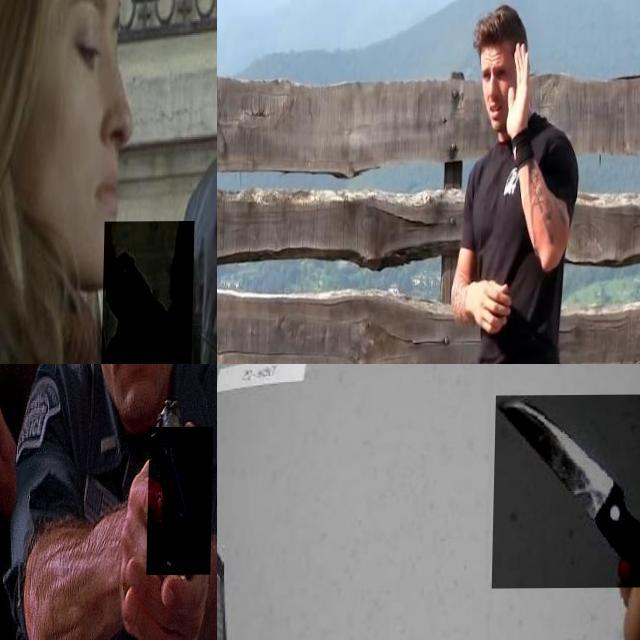-: (493, 394, 640, 589)
gun-knife-thesis - v11 Yolov5 augmented: (103, 221, 196, 364), (150, 428, 216, 576)
